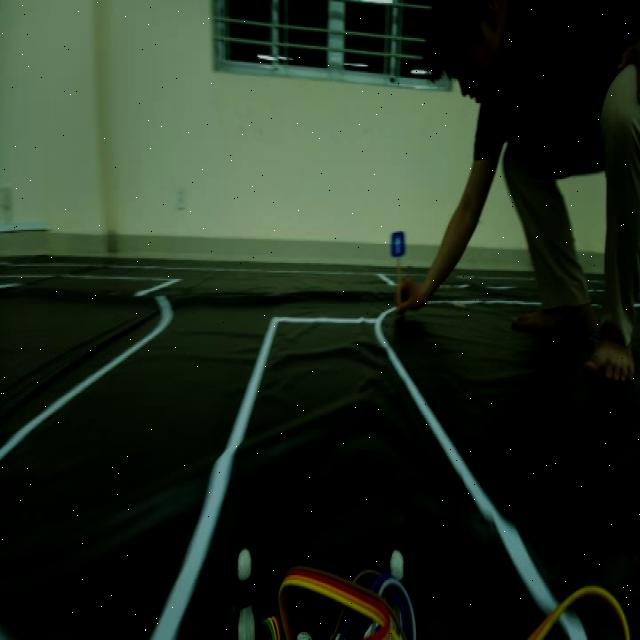onewayroad: (386, 231, 410, 259)
